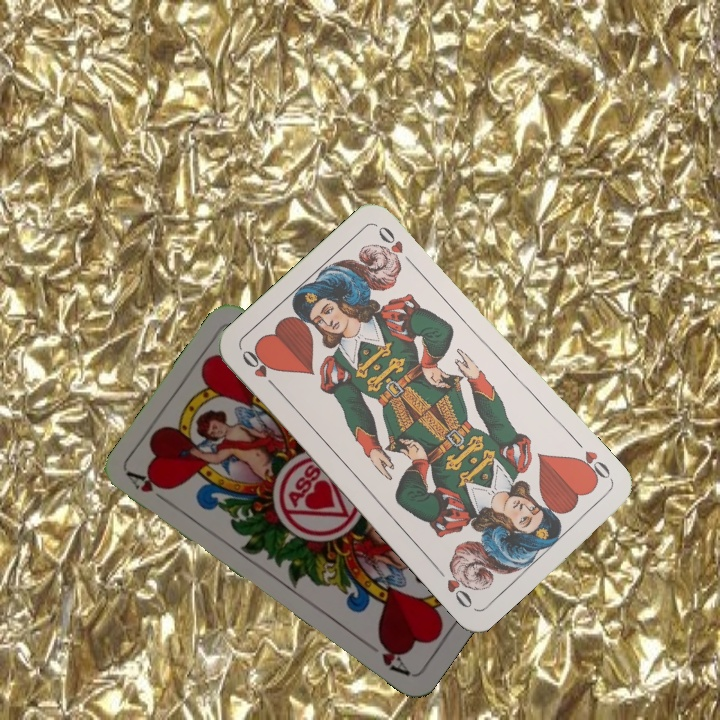HA: (124, 468, 176, 509)
HO: (237, 346, 282, 394), (569, 446, 615, 487)
